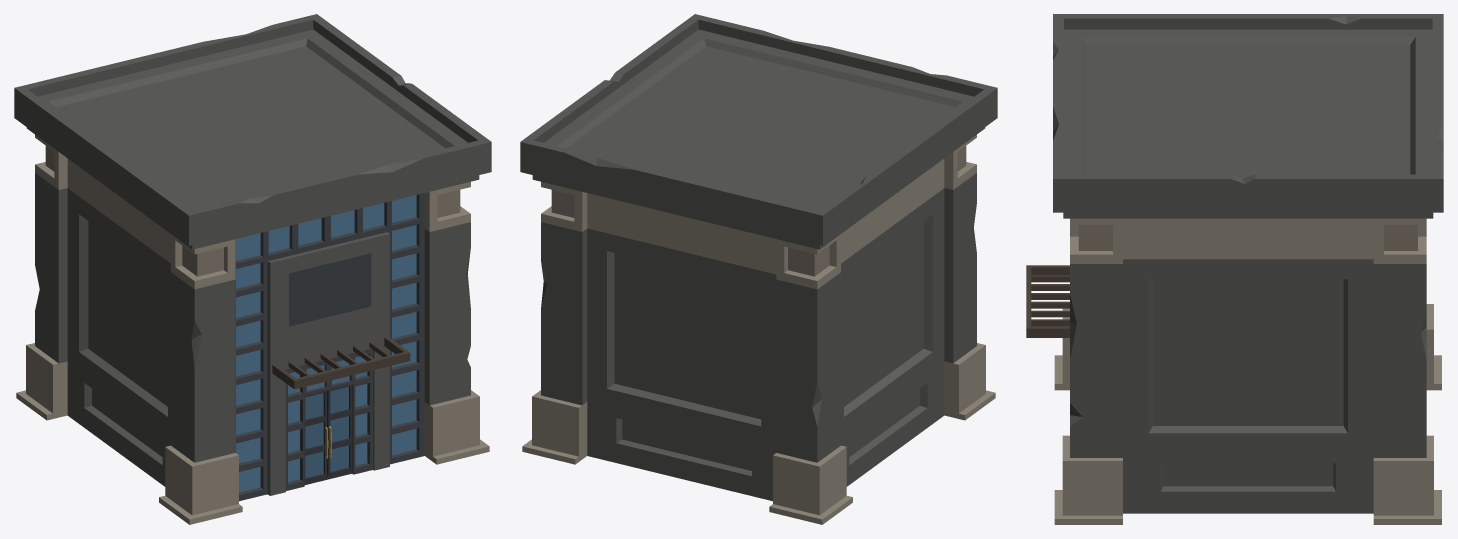
File: SM_Bld_Station_02.obj
The picture shows the model from 3 angles, left to right: view 1: azimuth 30°, elevation 25°; view 2: azimuth 150°, elevation 25°; view 3: azimuth 270°, elevation 25°; orthographic projection. The views are drawn at different scales.
Parts seen in each view (by area): view 1: SM_Bld_Station_02_0; view 2: SM_Bld_Station_02_0; view 3: SM_Bld_Station_02_0.
Part boxes in pixels (x1,y1,x2,y2): SM_Bld_Station_02_0: (14, 14, 491, 524); SM_Bld_Station_02_0: (520, 14, 997, 524); SM_Bld_Station_02_0: (1026, 14, 1443, 524).
Bounding box in the file's own units: 8.77 × 8.58 × 9.37.
1 material, 1 textured.
